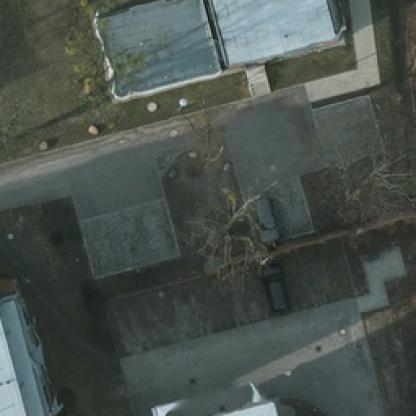car: (260, 254, 291, 312), (250, 192, 280, 242)
